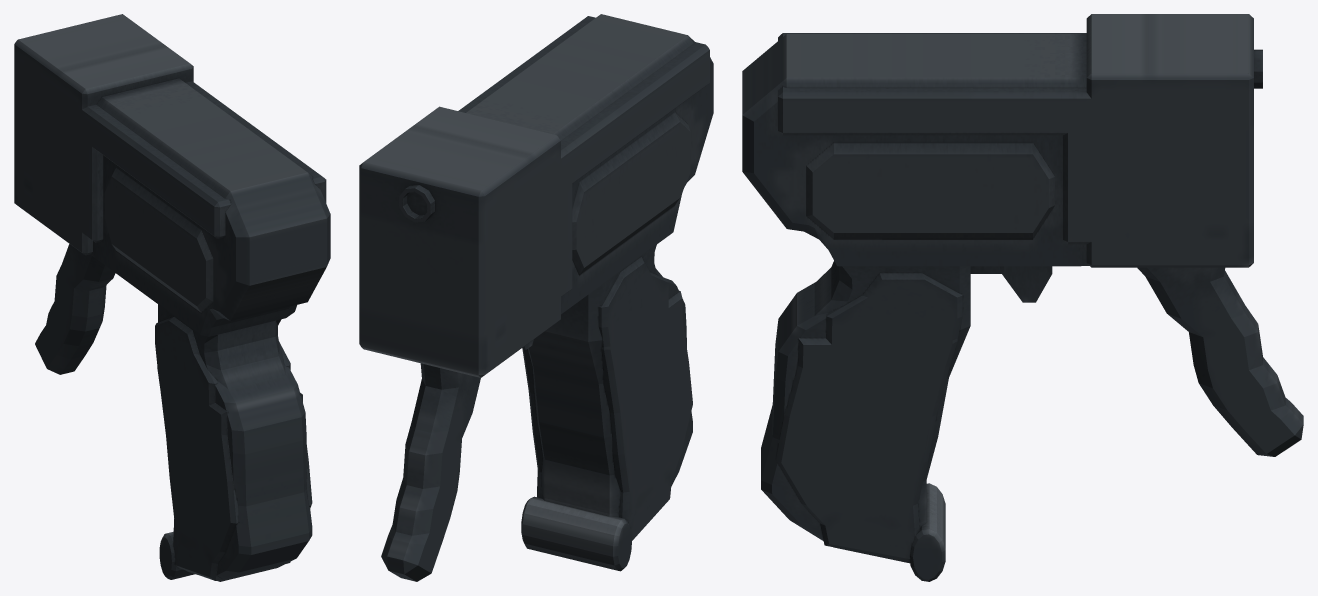
Rendered from repair_kit.glb.
3 views of the same model, side by side, from view 1: azimuth 30°, elevation 25°; view 2: azimuth 150°, elevation 25°; view 3: azimuth 270°, elevation 25° (orthographic). The views are drawn at different scales.
Visible parts, largest first — view 1: repair_kit; view 2: repair_kit; view 3: repair_kit.
Boxes of the visible parts, bbox=[...] form: repair_kit: bbox=[14, 14, 330, 581]; repair_kit: bbox=[359, 14, 713, 581]; repair_kit: bbox=[742, 14, 1303, 581].
Bounding box in the file's own units: 0.1019 × 0.3846 × 0.38.
Materials: 1 (1 with a texture image).
